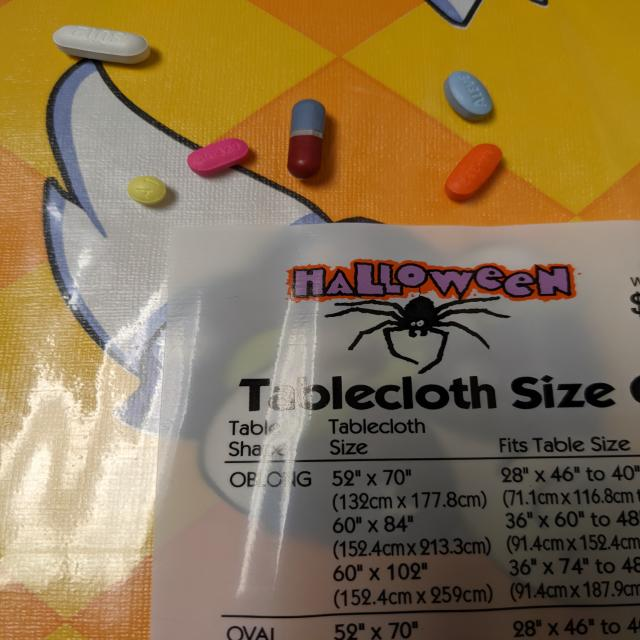non-organic waste: (51, 24, 152, 65), (444, 142, 504, 201), (286, 98, 326, 180), (442, 70, 493, 122), (186, 138, 251, 177), (127, 174, 168, 207)
